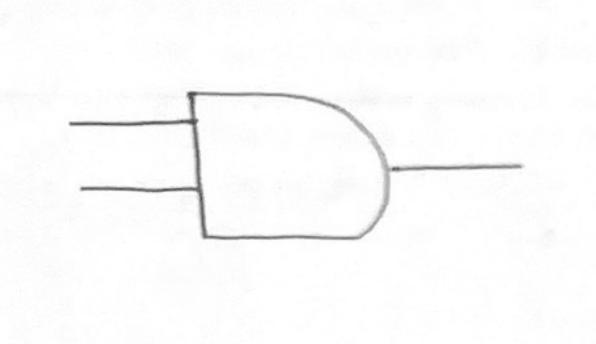AND: (166, 79, 419, 277)
